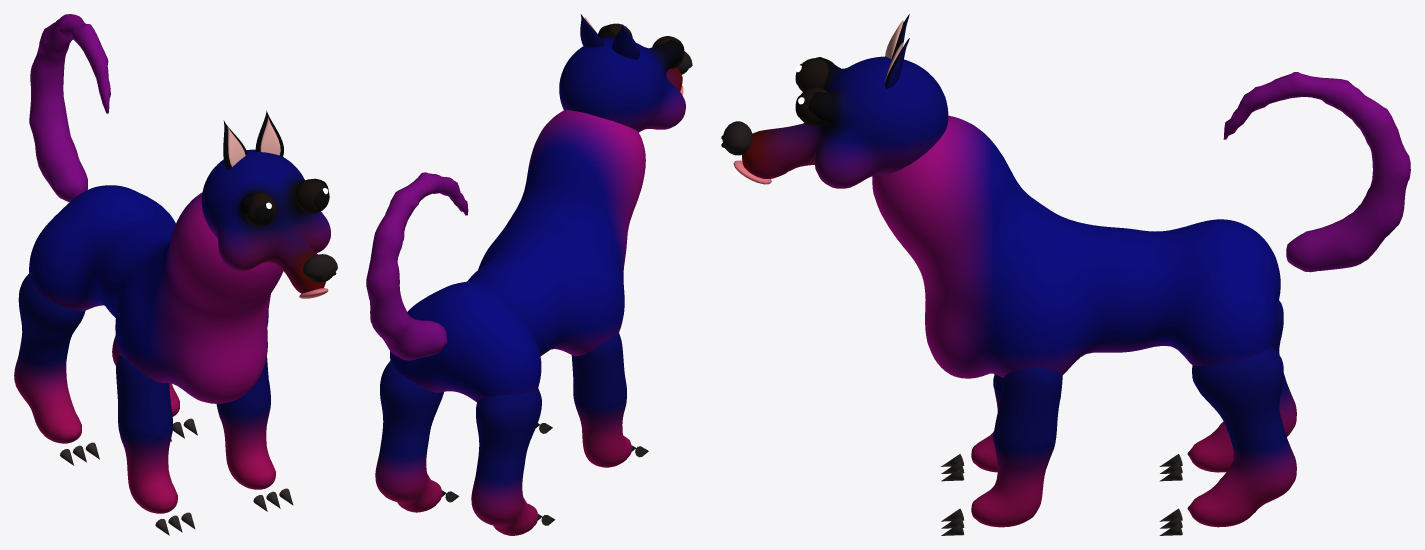
File: pet_spitz.glb
The picture shows the model from 3 angles, left to right: view 1: azimuth 30°, elevation 25°; view 2: azimuth 150°, elevation 25°; view 3: azimuth 270°, elevation 25°; orthographic projection. The views are drawn at different scales.
Parts seen in each view (by area): view 1: Fur_Body, Fur_Head, Fur_Tail, Fur_LegBL, Fur_LegFL, Fur_LegFR, Nose, Eye_R, Eye_L, EarInnerR, EarInnerL; view 2: Fur_Body, Fur_Head, Fur_LegBL, Fur_Tail, Fur_LegBR, Fur_LegFL, Fur_EarL, Fur_EarR; view 3: Fur_Body, Fur_Head, Fur_Tail, Fur_LegBR, Fur_LegFR, Fur_LegBL, Fur_LegFL, Eye_L, Nose.
Boxes of the visible parts, <box> form: Fur_Body: <box>29,185,283,403</box>; Fur_Head: <box>201,149,330,293</box>; Fur_Tail: <box>29,14,110,202</box>; Fur_LegBL: <box>14,273,85,443</box>; Fur_LegFL: <box>116,355,177,513</box>; Fur_LegFR: <box>216,356,275,489</box>; Nose: <box>302,254,337,282</box>; Eye_R: <box>295,179,329,213</box>; Eye_L: <box>244,192,276,226</box>; EarInnerR: <box>260,117,280,155</box>; EarInnerL: <box>227,127,245,166</box>; Fur_Body: <box>390,109,645,402</box>; Fur_Head: <box>559,24,685,132</box>; Fur_LegBL: <box>471,388,541,535</box>; Fur_Tail: <box>366,172,468,360</box>; Fur_LegBR: <box>375,361,443,512</box>; Fur_LegFL: <box>571,333,631,467</box>; Fur_EarL: <box>612,24,639,59</box>; Fur_EarR: <box>580,14,603,47</box>; Fur_Body: <box>872,115,1280,378</box>; Fur_Head: <box>742,56,948,188</box>; Fur_Tail: <box>1223,72,1410,272</box>; Fur_LegBR: <box>1187,346,1296,527</box>; Fur_LegFR: <box>971,368,1062,527</box>; Fur_LegBL: <box>1187,300,1296,472</box>; Fur_LegFL: <box>971,374,1003,472</box>; Eye_L: <box>797,58,828,91</box>; Nose: <box>722,121,752,155</box>.
Bounding box in the file's own units: 0.1402 × 0.3649 × 0.4797.
